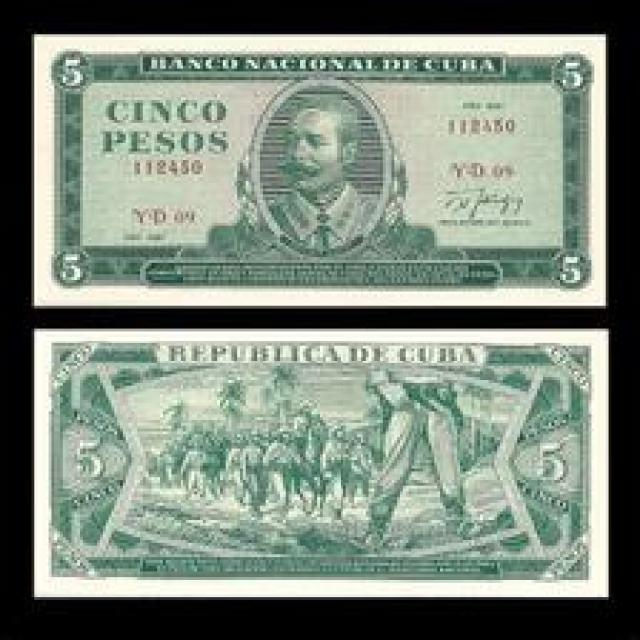banknote: (28, 31, 606, 306), (31, 326, 608, 597)
